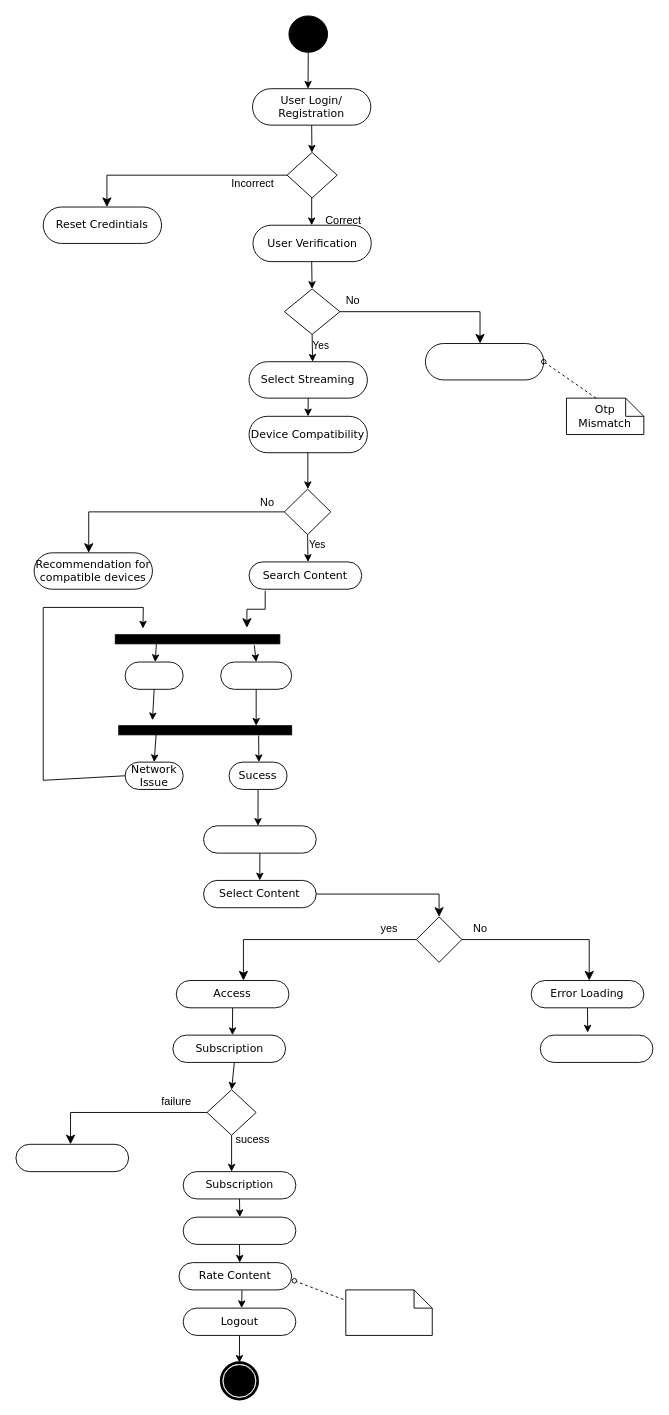
The diagram is 669 pixels wide and 1415 high, and some of its shapes have lost their labels. The box of each missing label's shape, as (x1, y1, x2, y2) in pixels:
Content Availability: (203, 825, 316, 853)
Database issues: (539, 1034, 653, 1062)
Error Rating, Try Again: (345, 1289, 432, 1335)
Error Searching: (124, 661, 183, 689)
Payment Issues: (15, 1143, 129, 1172)
Streaming content: (182, 1216, 296, 1244)
Try Again: (220, 661, 292, 689)
Verification Failed: (425, 343, 544, 380)
